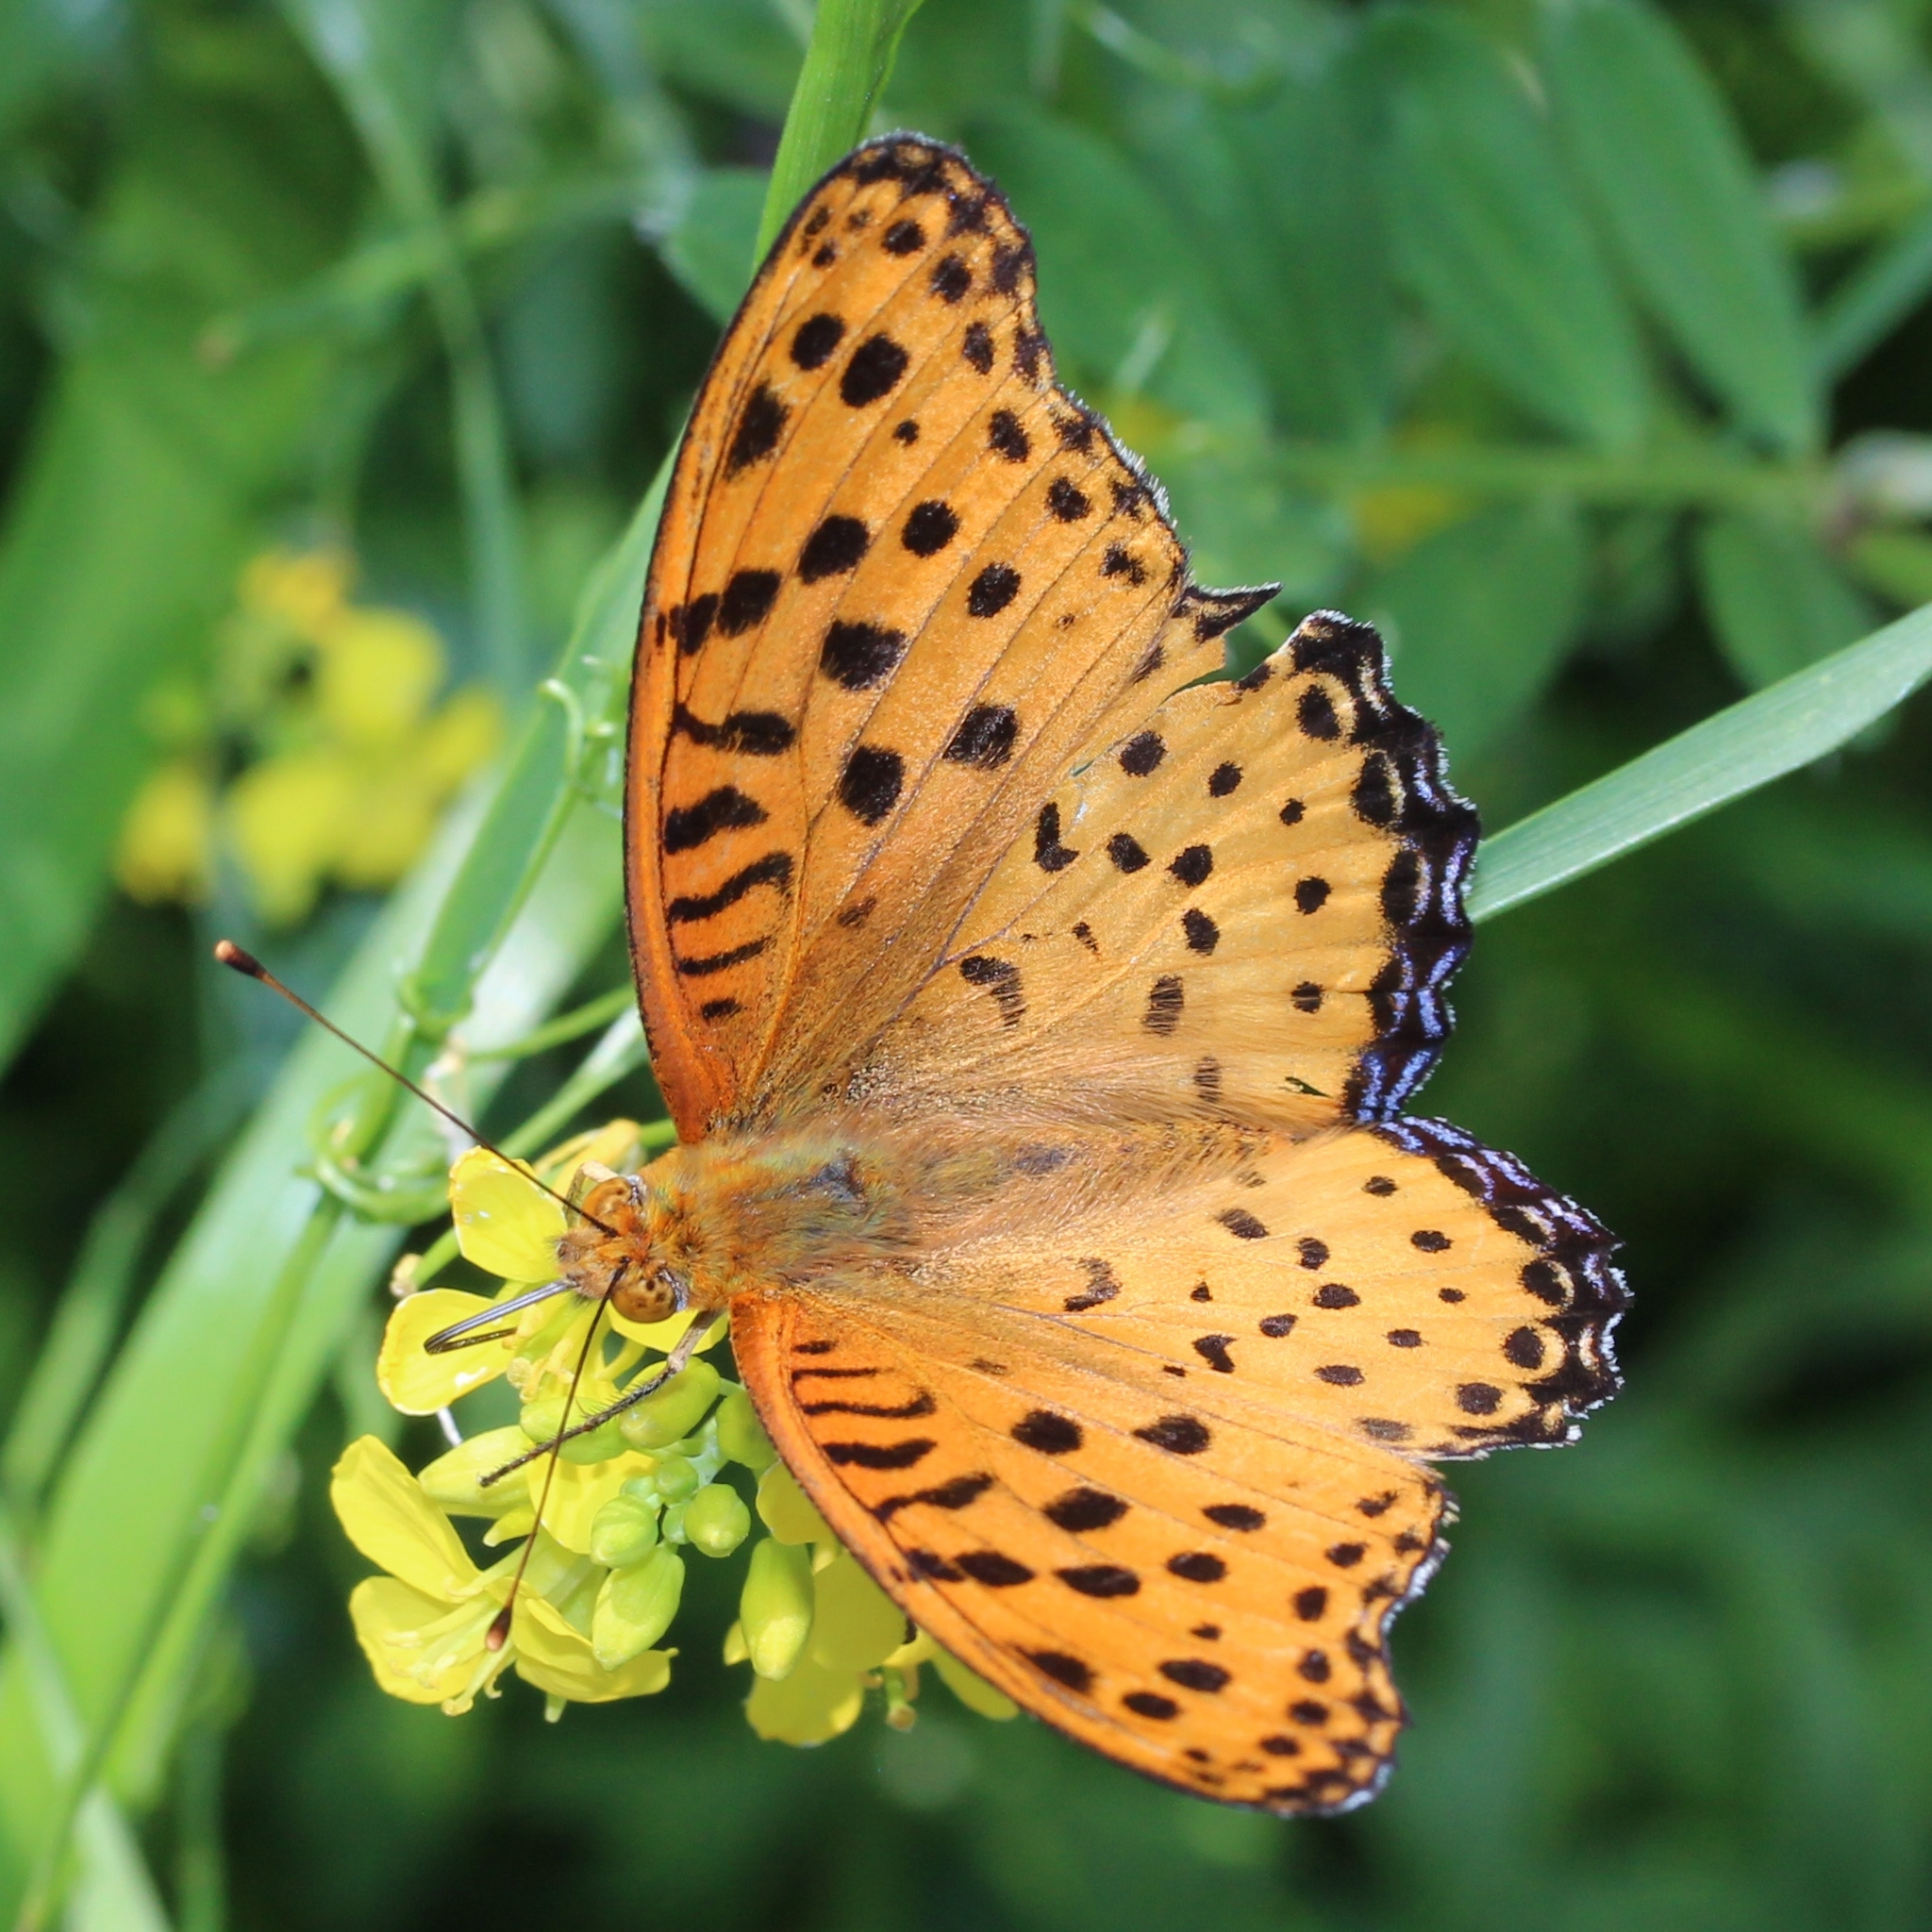Argyreus hyperbius: (193, 113, 1654, 1840)
butterfly: (195, 115, 1656, 1842)
